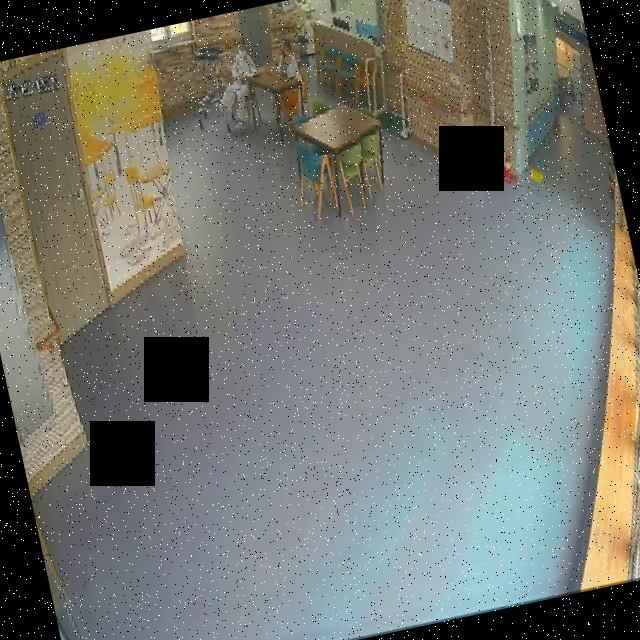patient: (204, 38, 271, 138), (269, 26, 310, 86)
sit: (205, 39, 271, 138)
